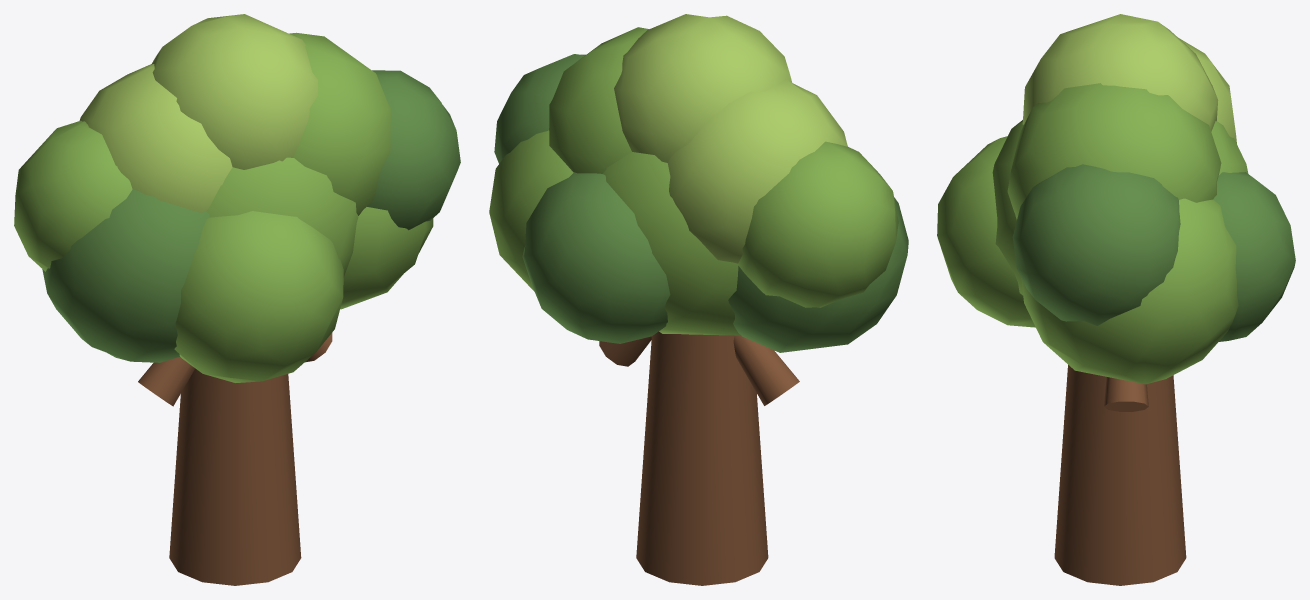
Rendered from tree.glb.
3 renders of one model, left to right at view 1: azimuth 30°, elevation 25°; view 2: azimuth 150°, elevation 25°; view 3: azimuth 270°, elevation 25°, orthographic.
Visible parts, largest first — view 1: Trunk, Crown8, Crown1, Crown5, Crown3, Crown6, Crown4, Crown7, Crown0, Crown2, Branch0; view 2: Trunk, Crown6, Crown9, Crown3, Crown5, Crown0, Crown1, Crown4, Crown2, Crown7, Branch0, Branch1; view 3: Trunk, Crown7, Crown2, Crown4, Crown5, Crown8, Crown9, Crown0, Branch1, Crown3.
Part boxes in pixels (x1=…): Trunk: x1=169, y1=368, x2=301, y2=585; Crown8: x1=174, y1=211, x2=343, y2=382; Crown1: x1=42, y1=189, x2=209, y2=362; Crown5: x1=151, y1=14, x2=318, y2=169; Crown3: x1=79, y1=64, x2=232, y2=212; Crown6: x1=14, y1=120, x2=132, y2=271; Crown4: x1=289, y1=32, x2=391, y2=215; Crown7: x1=367, y1=70, x2=460, y2=230; Crown0: x1=206, y1=157, x2=358, y2=277; Crown2: x1=340, y1=207, x2=433, y2=309; Branch0: x1=138, y1=357, x2=194, y2=406; Trunk: x1=636, y1=331, x2=768, y2=585; Crown6: x1=738, y1=141, x2=898, y2=307; Crown9: x1=522, y1=172, x2=670, y2=343; Crown3: x1=667, y1=79, x2=847, y2=263; Crown5: x1=614, y1=14, x2=792, y2=162; Crown0: x1=602, y1=152, x2=740, y2=335; Crown1: x1=728, y1=197, x2=908, y2=352; Crown4: x1=549, y1=27, x2=648, y2=173; Crown2: x1=489, y1=130, x2=573, y2=291; Crown7: x1=494, y1=54, x2=585, y2=163; Branch0: x1=733, y1=335, x2=799, y2=405; Branch1: x1=599, y1=336, x2=651, y2=366; Trunk: x1=1054, y1=365, x2=1186, y2=585; Crown7: x1=1012, y1=164, x2=1180, y2=325; Crown2: x1=1021, y1=198, x2=1238, y2=384; Crown4: x1=1007, y1=83, x2=1221, y2=219; Crown5: x1=1022, y1=14, x2=1218, y2=131; Crown8: x1=937, y1=136, x2=1035, y2=327; Crown9: x1=1213, y1=172, x2=1295, y2=341; Crown0: x1=992, y1=120, x2=1248, y2=295; Branch1: x1=1104, y1=377, x2=1148, y2=411; Crown3: x1=1179, y1=38, x2=1236, y2=143.
Size of the model in its own units: 3.08 by 3.93 by 2.39.
